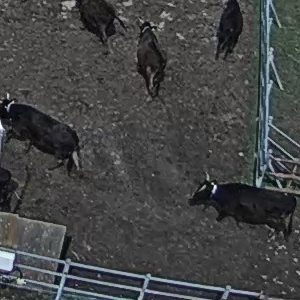cow: (182, 167, 300, 251), (2, 87, 86, 188), (130, 15, 174, 105), (71, 1, 125, 63), (211, 1, 249, 68)
